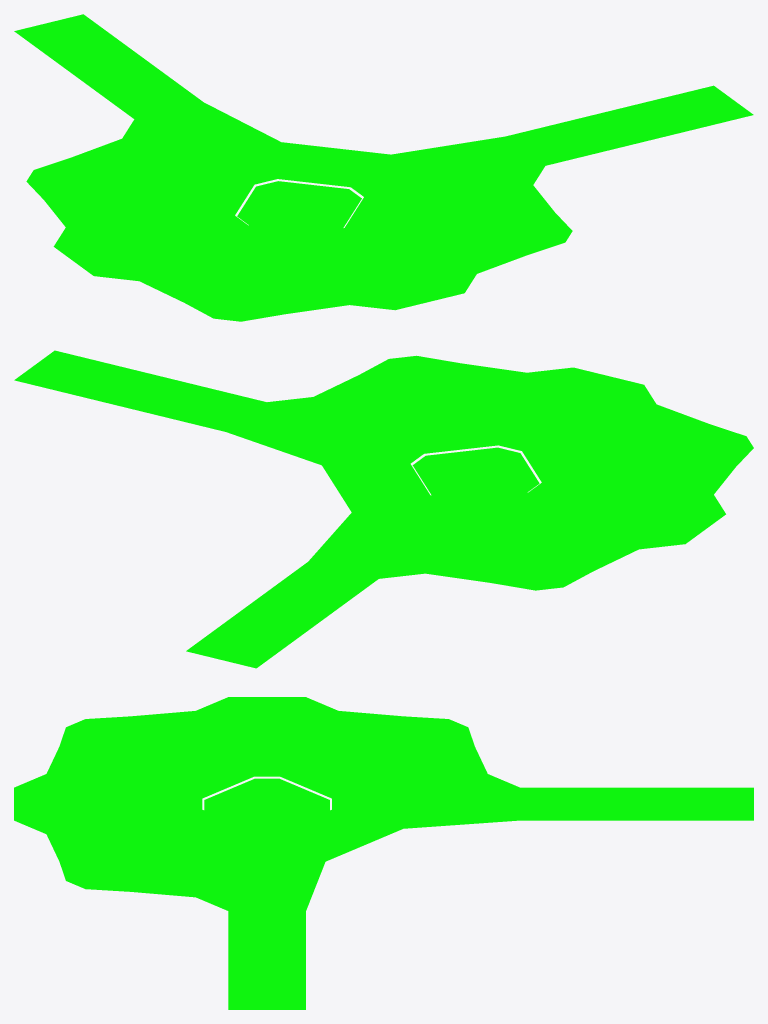
File: s06b_lb3-floor.glb
The picture shows the model from 3 angles, top to bottom: view 1: azimuth 30°, elevation 25°; view 2: azimuth 150°, elevation 25°; view 3: azimuth 270°, elevation 25°; orthographic projection. The views are drawn at different scales.
Parts seen in each view (by area): view 1: collision_floor-colonly; view 2: collision_floor-colonly; view 3: collision_floor-colonly.
Part boxes in pixels (left/top/right/bottom): collision_floor-colonly: left=14, top=14, right=753, bottom=321; collision_floor-colonly: left=14, top=350, right=753, bottom=668; collision_floor-colonly: left=14, top=697, right=753, bottom=1009.
Bounding box in the file's own units: 57 × 0.0996 × 57.
